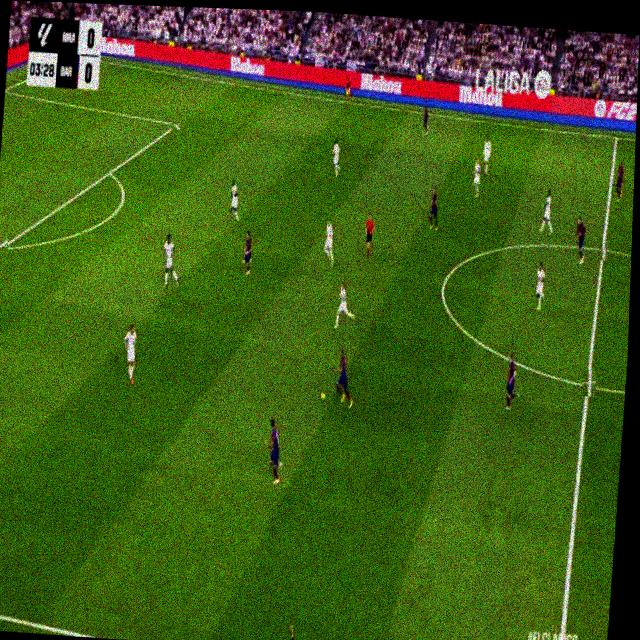bigarea_top_inner: (171, 116, 180, 132)
bigarea_top_outter: (4, 82, 8, 95)
bottom_arc_area_intersection: (0, 235, 8, 257)
halfcircle_bottom: (580, 369, 596, 400)
halfcircle_top: (597, 237, 609, 260)
midline_top_intersection: (610, 130, 621, 146)
top_arc_area_intersection: (104, 162, 115, 180)
